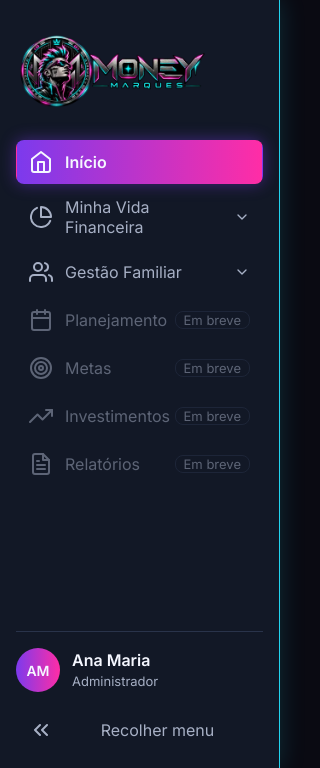
Scenario: MenuLateral › alterna entre expandido e compacto
Click the button "Recolher menu". click: (140, 730)
box: top-left (16, 708), bottom-right (263, 752)
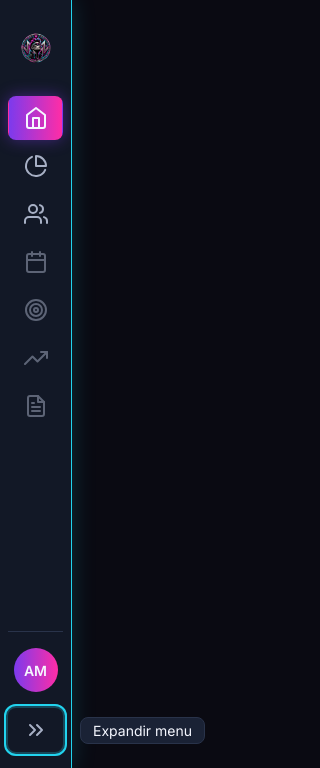
Result: the button named "Expandir menu" is shown at top-left (8, 708), bottom-right (63, 752)
